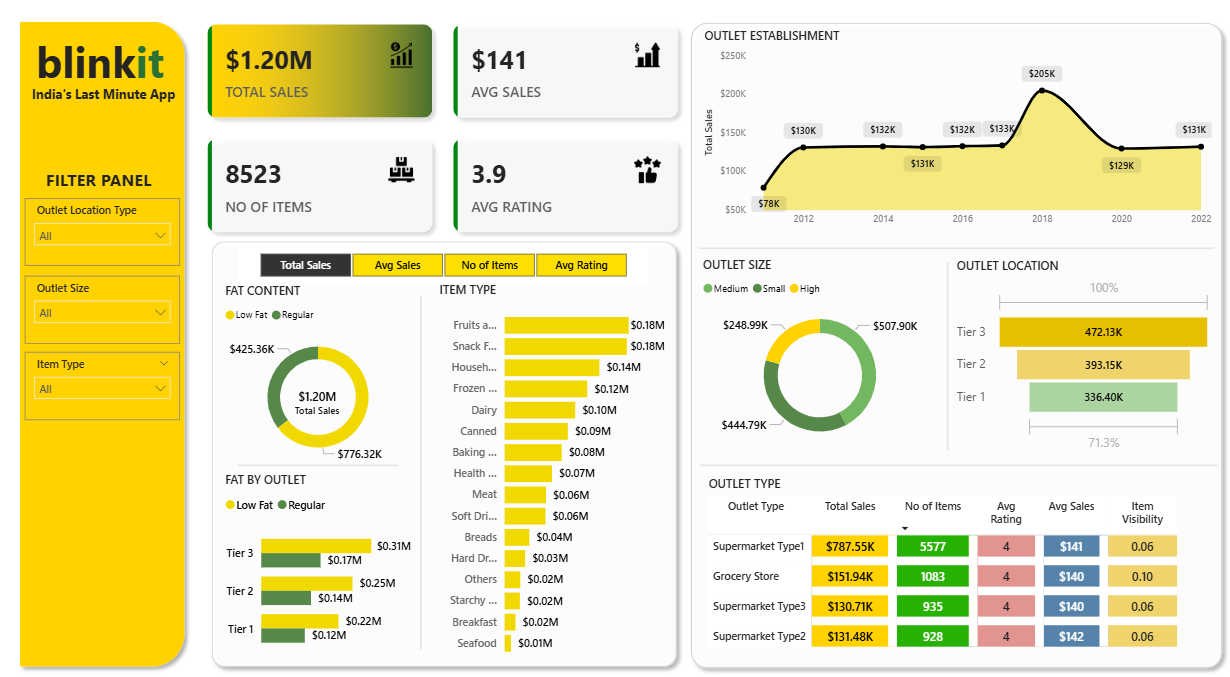

The page's visual inventory and layout, read from the dashboard file:
{"tool":"powerbi","page":{"name":"Home","canvas":[1400,800],"ordinal":0},"visuals":[{"type":"shape","box":[16,25.6,204.7,750],"z":0},{"type":"textbox","box":[39,42,171,77],"z":1000},{"type":"textbox","box":[34,103,182,32],"z":2000},{"type":"cardVisual","fields":{"Data":["BlinkIT Grocery Data.Total Sales","BlinkIT Grocery Data.Avg Sales","BlinkIT Grocery Data.No of Items","BlinkIT Grocery Data.Avg Rating"]},"box":[220.6,20.6,569.4,270],"z":3000},{"type":"shape","box":[233.5,275,545.3,500.5],"z":4000},{"type":"donutChart","title":"FAT CONTENT","fields":{"Y":["BlinkIT Grocery Data.Total Sales"],"Category":["BlinkIT Grocery Data.Item Fat Content"]},"box":[252.7,331,220.7,214.3],"z":5000},{"type":"slicer","fields":{"Values":["Metrics.Metrics"]},"box":[271.8,291,465.3,40],"z":6000},{"type":"cardVisual","fields":{"Data":["BlinkIT Grocery Data.Total Sales"]},"box":[315,433.4,94.3,56],"z":7000},{"type":"clusteredBarChart","title":"FAT BY OUTLET","fields":{"Y":["BlinkIT Grocery Data.Total Sales"],"Category":["BlinkIT Grocery Data.Outlet Location Type"],"Series":["BlinkIT Grocery Data.Item Fat Content"]},"box":[252.7,545.3,220.7,217.5],"z":8000},{"type":"shape","box":[271.8,522.9,182.3,30.4],"z":9000},{"type":"shape","box":[473.3,345.4,12.8,401.4],"z":10000},{"type":"barChart","title":"ITEM TYPE","fields":{"Y":["BlinkIT Grocery Data.Total Sales"],"Category":["BlinkIT Grocery Data.Item Type"]},"box":[495.7,329.4,265.5,435],"z":11000},{"type":"shape","box":[777.2,27.2,620.5,750],"z":12000},{"type":"lineChart","title":"OUTLET ESTABLISHMENT","fields":{"Y":["BlinkIT Grocery Data.Total Sales"],"Category":["BlinkIT Grocery Data.Outlet Establishment Year"]},"box":[796.4,41.6,585.3,235.1],"z":13000},{"type":"shape","box":[794.8,287.8,585.3,8],"z":14000},{"type":"donutChart","title":"OUTLET SIZE","fields":{"Y":["BlinkIT Grocery Data.Total Sales"],"Category":["BlinkIT Grocery Data.Outlet Size"]},"box":[794.8,300.6,275,225.5],"z":15000},{"type":"shape","box":[1065,307,24,214.3],"z":16000},{"type":"funnel","title":"OUTLET LOCATION","fields":{"Category":["BlinkIT Grocery Data.Outlet Location Type"],"Y":["Sum(BlinkIT Grocery Data.Sales)"]},"box":[1082.6,302.2,299,225.5],"z":17000},{"type":"shape","box":[796.4,534.1,586.9,8],"z":18000},{"type":"pivotTable","title":"OUTLET TYPE","fields":{"Rows":["BlinkIT Grocery Data.Outlet Type"],"Values":["BlinkIT Grocery Data.Total Sales","BlinkIT Grocery Data.No of Items","BlinkIT Grocery Data.Avg Rating","BlinkIT Grocery Data.Avg Sales","Avg(BlinkIT Grocery Data.Item Visibility)"]},"box":[801.1,550.1,562.9,214.3],"z":18001},{"type":"slicer","fields":{"Values":["BlinkIT Grocery Data.Outlet Location Type"]},"box":[30,234.4,176.2,76.9],"z":18002},{"type":"slicer","fields":{"Values":["BlinkIT Grocery Data.Outlet Size"]},"box":[30,323,176,77],"z":18003},{"type":"slicer","fields":{"Values":["BlinkIT Grocery Data.Item Type"]},"box":[30,409,176,77],"z":18004},{"type":"textbox","box":[49.2,196.7,203.3,55.8],"z":18006}]}

Visuals, with their boxes on the page's 1400x800 design canvas (x1, y1, x2, y2). These are canvas units, not pixel positions in the 1230x677 screenshot, which may show the page scaled, cropped or inside an application window:
shape: detection(16, 26, 221, 776)
textbox: detection(39, 42, 210, 119)
textbox: detection(34, 103, 216, 135)
cardVisual - BlinkIT Grocery Data.Total Sales x BlinkIT Grocery Data.Avg Sales: detection(221, 21, 790, 291)
shape: detection(234, 275, 779, 776)
"FAT CONTENT" donutChart: detection(253, 331, 473, 545)
slicer - Metrics.Metrics: detection(272, 291, 737, 331)
cardVisual - BlinkIT Grocery Data.Total Sales: detection(315, 433, 409, 489)
"FAT BY OUTLET" clusteredBarChart: detection(253, 545, 473, 763)
shape: detection(272, 523, 454, 553)
shape: detection(473, 345, 486, 747)
"ITEM TYPE" barChart: detection(496, 329, 761, 764)
shape: detection(777, 27, 1398, 777)
"OUTLET ESTABLISHMENT" lineChart: detection(796, 42, 1382, 277)
shape: detection(795, 288, 1380, 296)
"OUTLET SIZE" donutChart: detection(795, 301, 1070, 526)
shape: detection(1065, 307, 1089, 521)
"OUTLET LOCATION" funnel: detection(1083, 302, 1382, 528)
shape: detection(796, 534, 1383, 542)
"OUTLET TYPE" pivotTable: detection(801, 550, 1364, 764)
slicer - BlinkIT Grocery Data.Outlet Location Type: detection(30, 234, 206, 311)
slicer - BlinkIT Grocery Data.Outlet Size: detection(30, 323, 206, 400)
slicer - BlinkIT Grocery Data.Item Type: detection(30, 409, 206, 486)
textbox: detection(49, 197, 252, 252)
